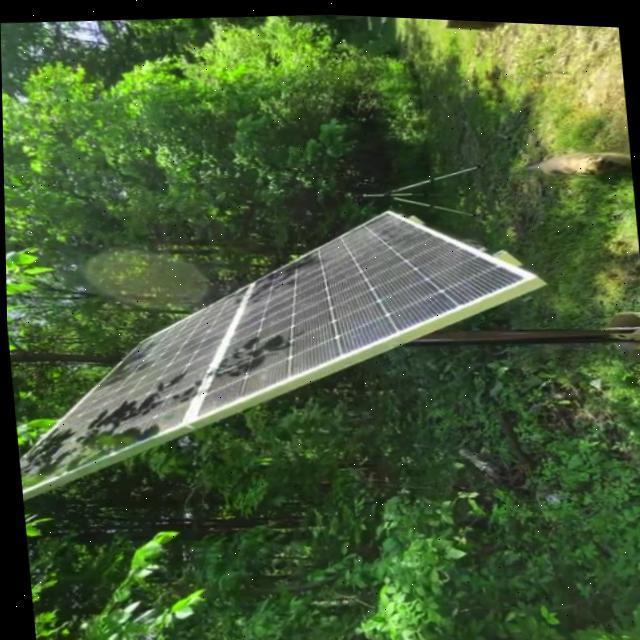Normal Solar Panel: (3, 183, 560, 513)
